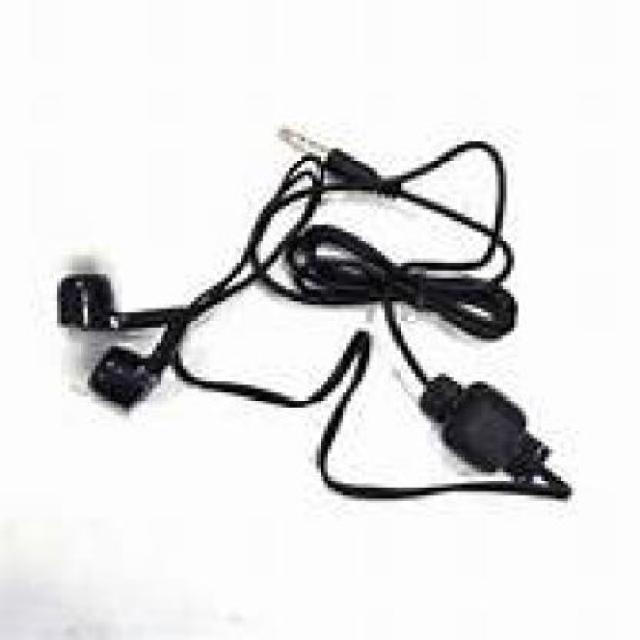earphone: (41, 121, 569, 530)
